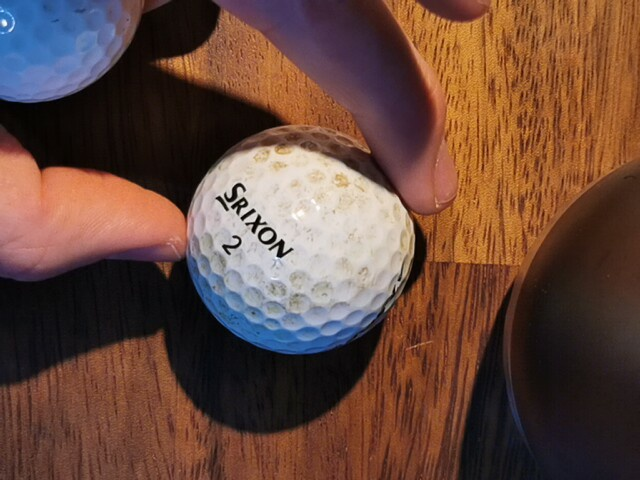Ball: (185, 124, 416, 356)
Srixon: (215, 183, 294, 258)
